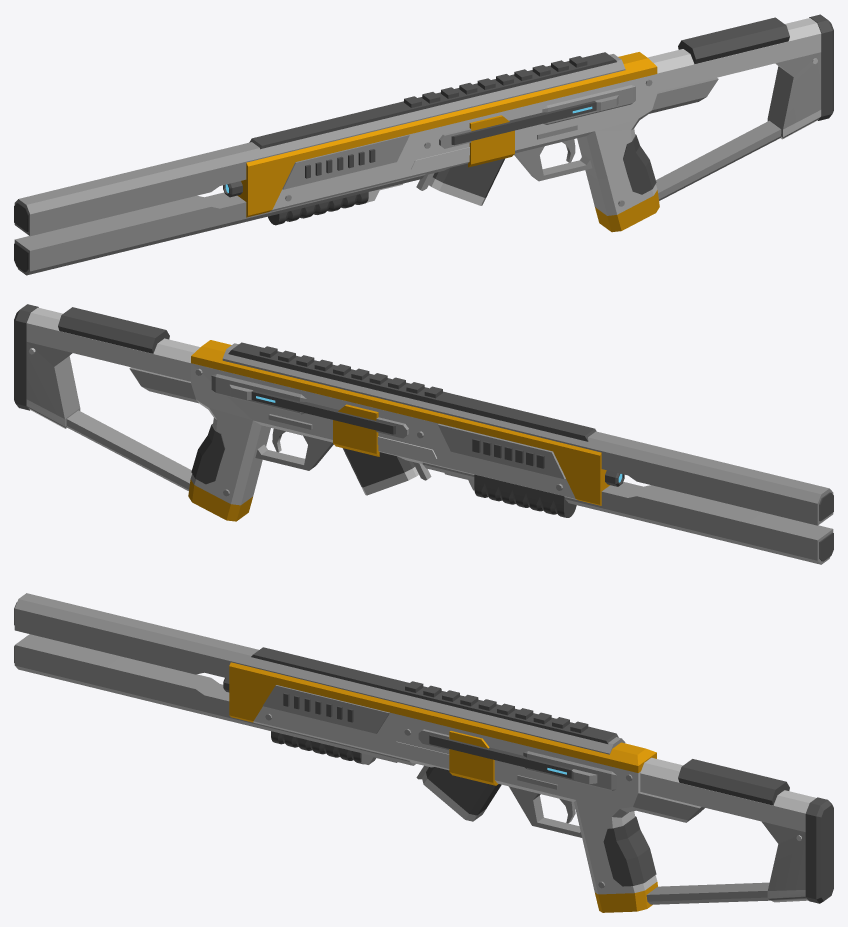
The picture shows the model from 3 angles, top to bottom: view 1: azimuth 30°, elevation 25°; view 2: azimuth 150°, elevation 25°; view 3: azimuth 330°, elevation 25°; orthographic projection.
Parts seen in each view (by area): view 1: SM_SR02; view 2: SM_SR02; view 3: SM_SR02.
Part boxes in pixels (x1=…): SM_SR02: x1=14, y1=14, x2=833, y2=275; SM_SR02: x1=14, y1=304, x2=833, y2=564; SM_SR02: x1=14, y1=593, x2=833, y2=912.
Bounding box in the file's own units: 97.09 × 19.99 × 5.69.
